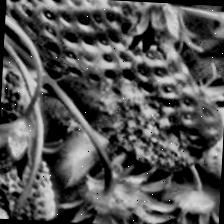Powdery Mildew Fruit: (74, 70, 210, 175)
